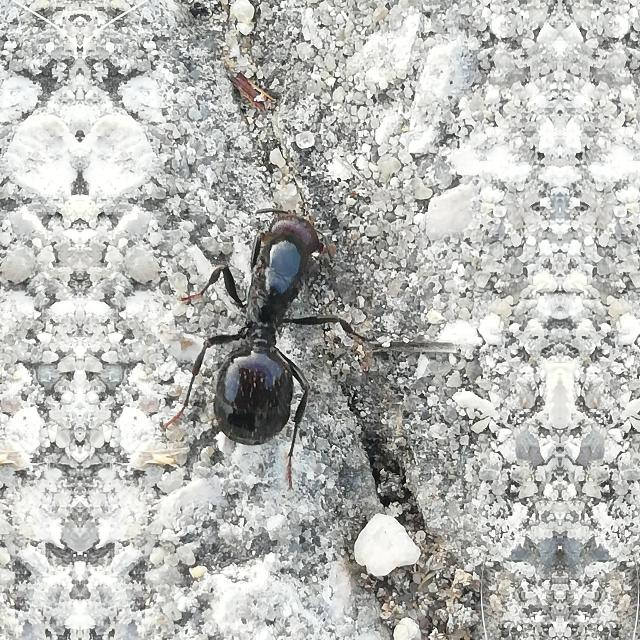Messor: (188, 189, 348, 456)
